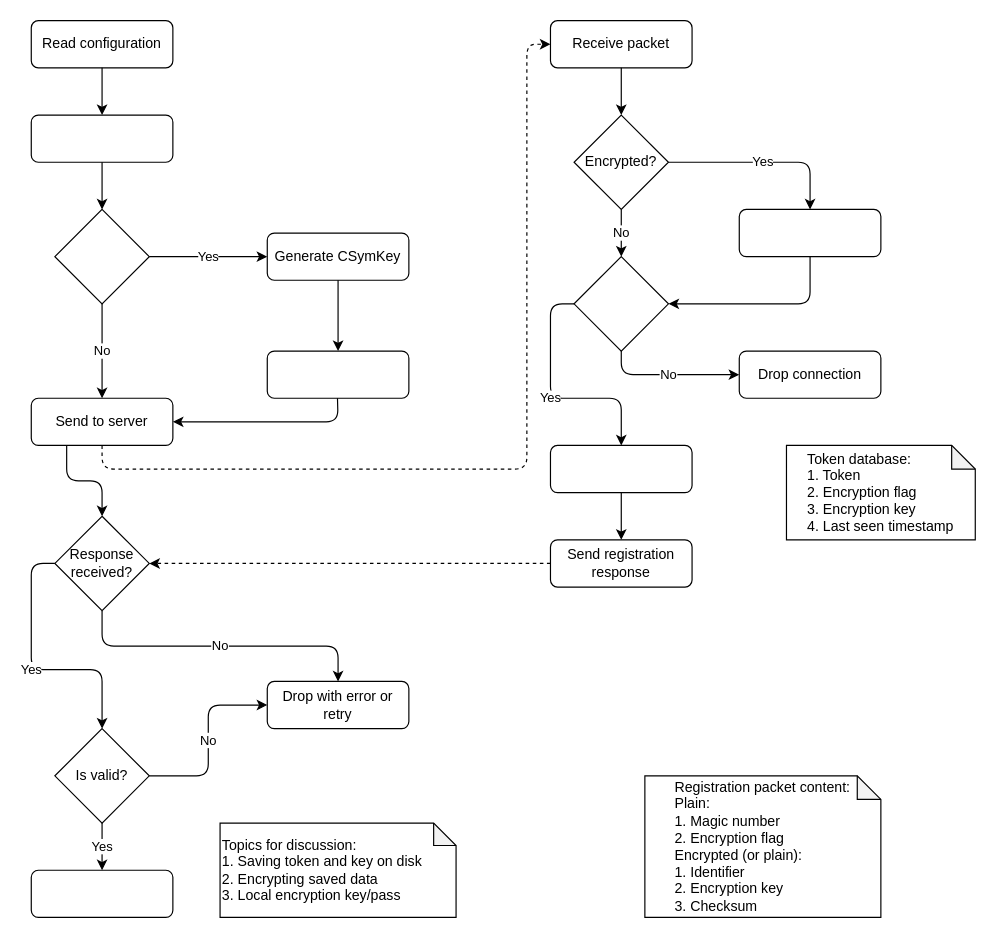
Some shapes in this 996 by 938 pixel diagram are drawn without their labels. Here are the shapes that lost their labels. From the top down, the box of each, then its label:
(30, 114, 173, 162): Prepare registration packet
(738, 208, 881, 257): Decrypt
(54, 208, 149, 304): Encrypt?
(573, 255, 668, 351): Valid?
(266, 350, 409, 398): Encrypt with SPubKey
(549, 444, 692, 493): Generate and save token
(30, 869, 173, 917): Save token for future use
